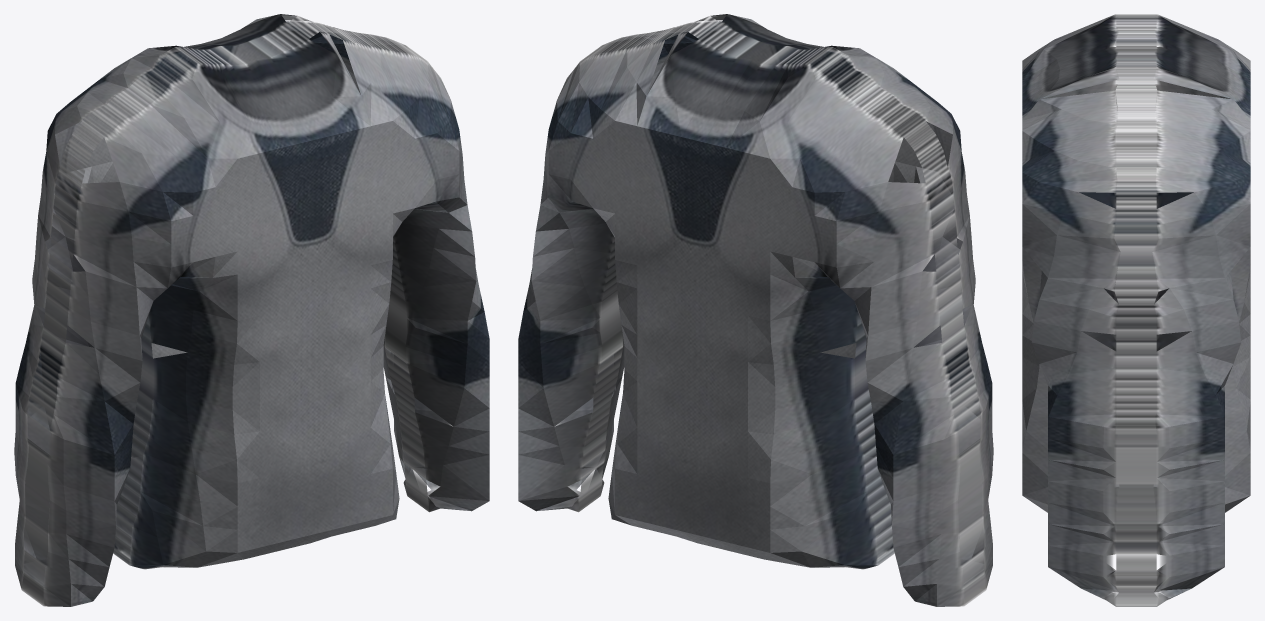
File: quad-lock-nomad-base-layer-039.glb
The picture shows the model from 3 angles, left to right: view 1: azimuth 30°, elevation 25°; view 2: azimuth 150°, elevation 25°; view 3: azimuth 270°, elevation 25°; orthographic projection. The views are drawn at different scales.
Visible parts, largest first — view 1: world; view 2: world; view 3: world.
Part boxes in pixels (bbox=[...]): world: bbox=[14, 14, 489, 606]; world: bbox=[518, 14, 993, 606]; world: bbox=[1022, 14, 1250, 606].
Size of the model in its own units: 0.8936 by 1 by 0.44.
Materials: 1 (1 with a texture image).
